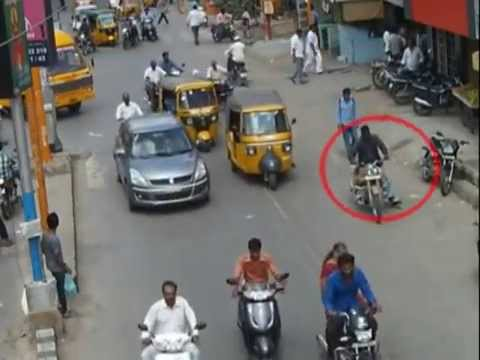car: (112, 119, 214, 207), (223, 91, 300, 197), (156, 77, 225, 159)
two_wheeler: (315, 238, 404, 360), (221, 237, 301, 360), (139, 274, 202, 360), (349, 122, 396, 223)
